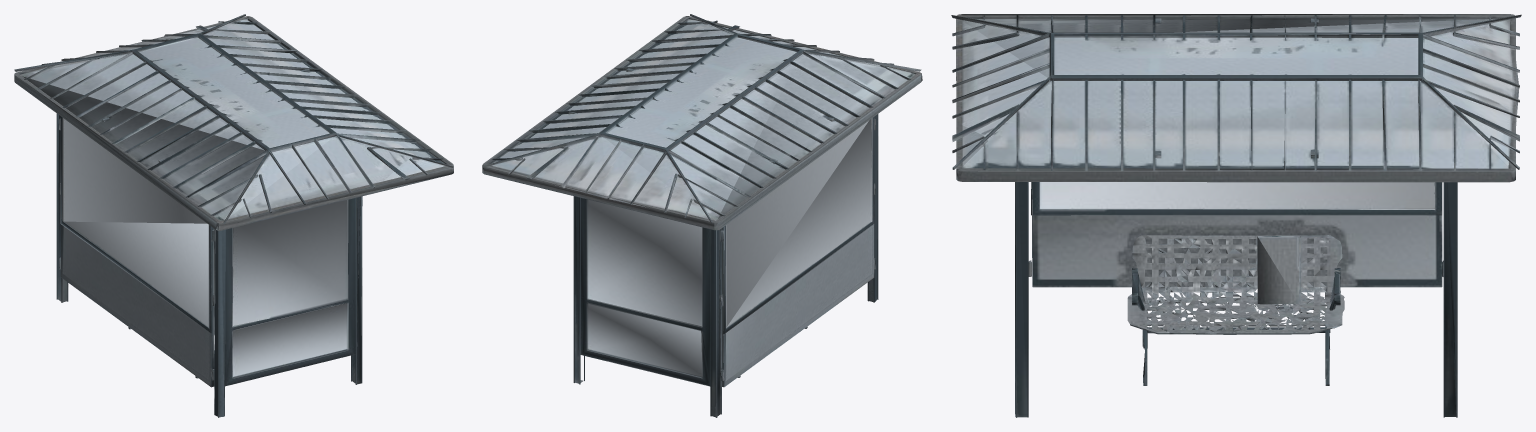
File: bus_shelter.glb
The picture shows the model from 3 angles, left to right: view 1: azimuth 30°, elevation 25°; view 2: azimuth 150°, elevation 25°; view 3: azimuth 270°, elevation 25°; orthographic projection. The views are drawn at different scales.
Visible parts, largest first — view 1: Mesh_0; view 2: Mesh_0; view 3: Mesh_0.
Part boxes in pixels (left/top/right/bottom): Mesh_0: left=14, top=14, right=453, bottom=417; Mesh_0: left=482, top=14, right=922, bottom=417; Mesh_0: left=951, top=14, right=1521, bottom=417.
Bounding box in the file's own units: 2.62 × 2.58 × 4.
Materials: 1 (1 with a texture image).
